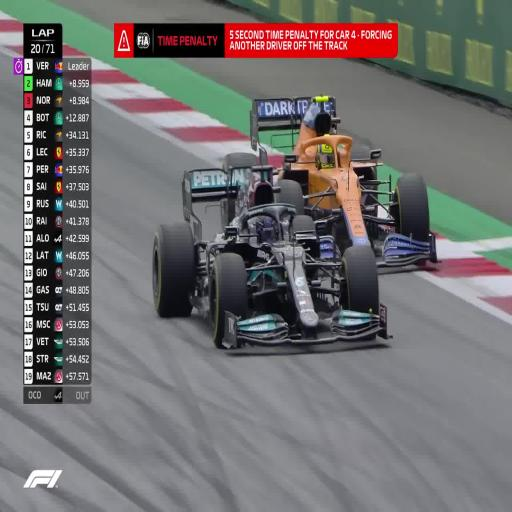f1_car: (153, 165, 390, 347), (250, 96, 437, 265), (226, 155, 239, 162), (294, 183, 301, 193), (370, 253, 373, 256)
